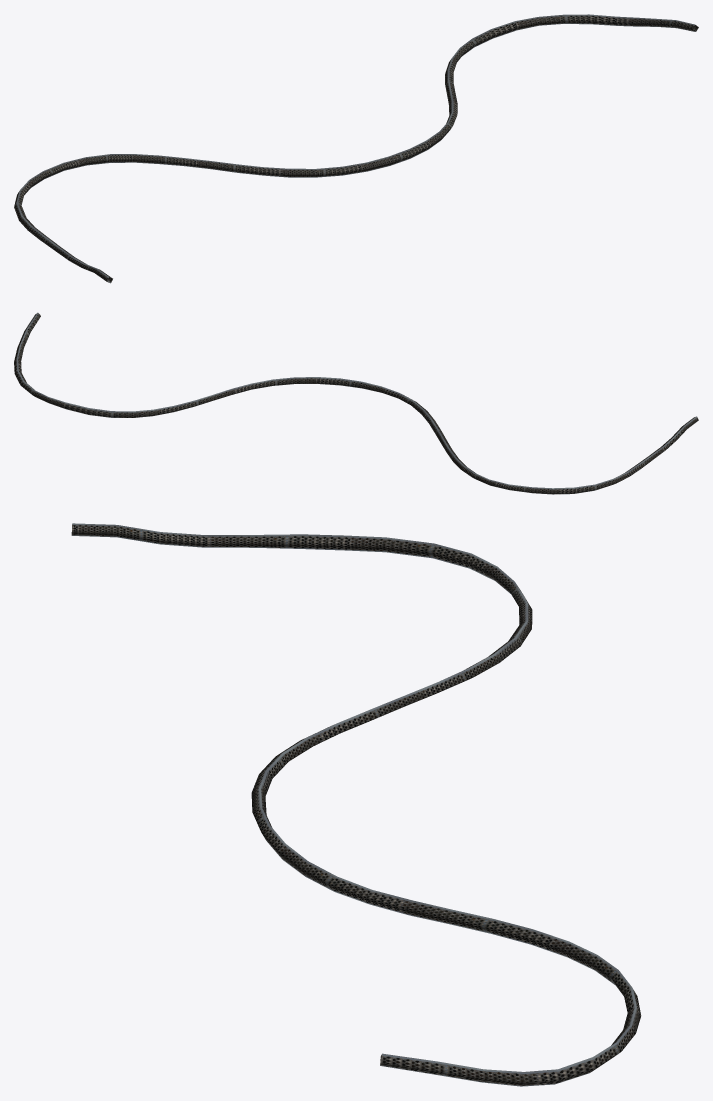
File: Hose_B.fbx
3 views of the same model, one above another, from view 1: azimuth 30°, elevation 25°; view 2: azimuth 150°, elevation 25°; view 3: azimuth 270°, elevation 25° (orthographic). The views are drawn at different scales.
Parts seen in each view (by area): view 1: extrudedSurface2; view 2: extrudedSurface2; view 3: extrudedSurface2.
Part boxes in pixels (x1,y1,x2,y2): extrudedSurface2: [14, 14, 698, 283]; extrudedSurface2: [14, 312, 698, 494]; extrudedSurface2: [71, 523, 641, 1086].
Bounding box in the file's own units: 58.45 × 2.96 × 24.57.
